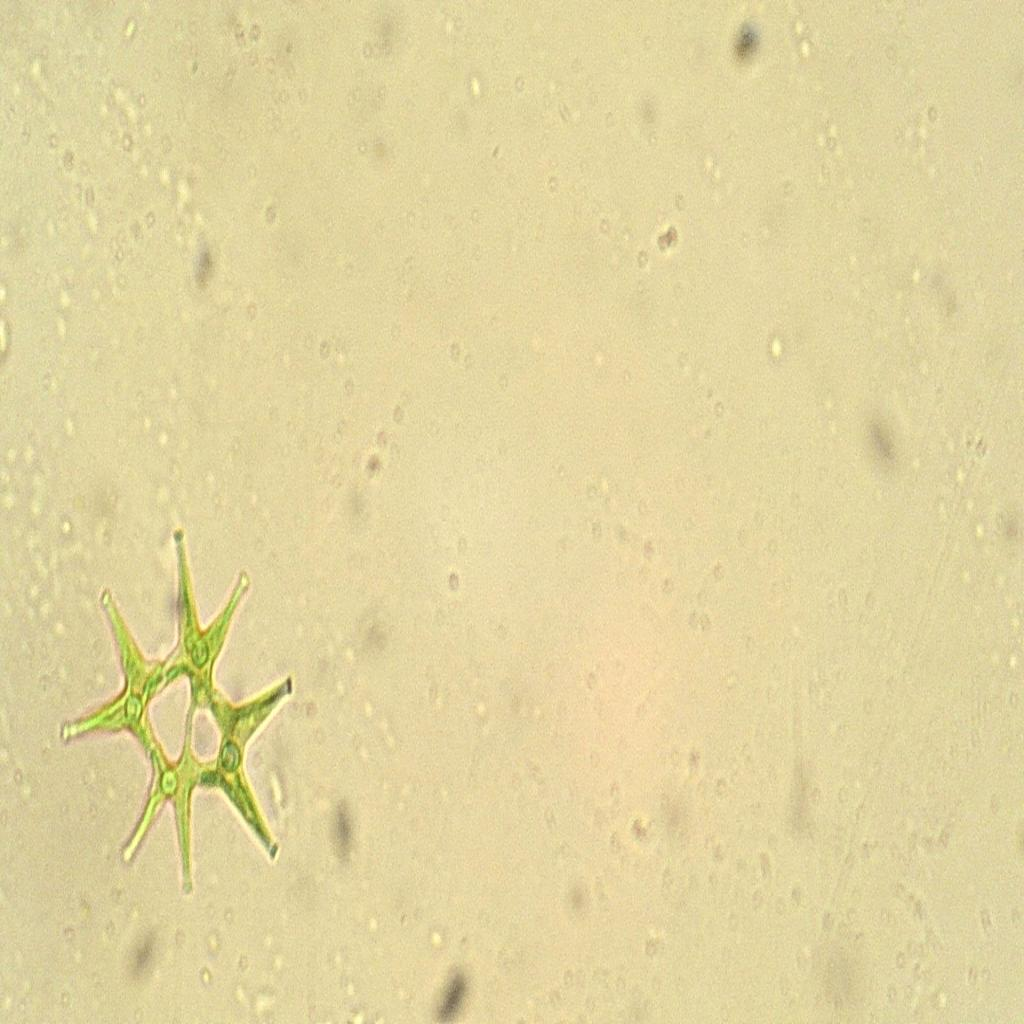Pediastrum_75FO: (47, 515, 324, 914)
